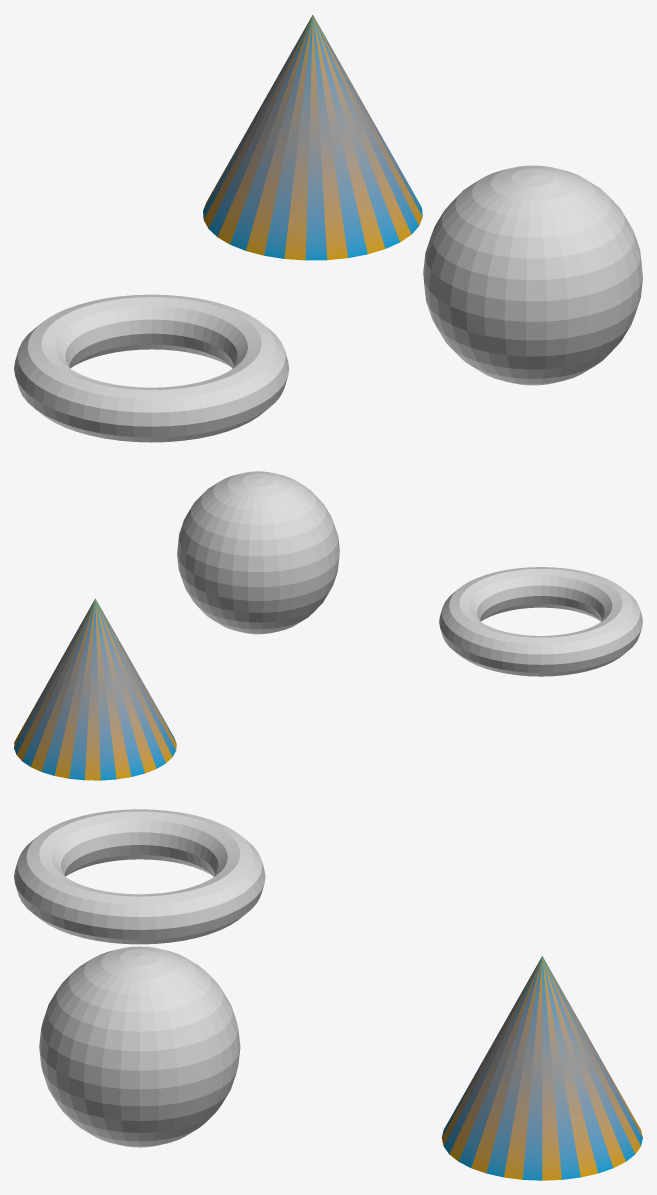
The model's file is nested.fbx.
The picture shows the model from 3 angles, top to bottom: view 1: azimuth 30°, elevation 25°; view 2: azimuth 150°, elevation 25°; view 3: azimuth 270°, elevation 25°; orthographic projection. The views are drawn at different scales.
Visible parts, largest first — view 1: Sphere, Cone, Torus; view 2: Sphere, Cone, Torus; view 3: Sphere, Cone, Torus.
Part boxes in pixels (left/top/right/bottom): Sphere: left=423, top=165, right=642, bottom=385; Cone: left=203, top=15, right=422, bottom=260; Torus: left=14, top=294, right=289, bottom=442; Sphere: left=177, top=471, right=339, bottom=634; Cone: left=14, top=598, right=176, bottom=780; Torus: left=439, top=567, right=642, bottom=676; Sphere: left=39, top=946, right=240, bottom=1147; Cone: left=441, top=956, right=642, bottom=1180; Torus: left=14, top=809, right=265, bottom=944.
Size of the model in its own units: 625 by 200 by 625.
